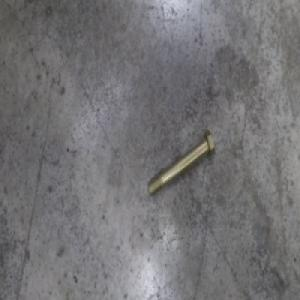Bolt: (146, 128, 216, 197)
